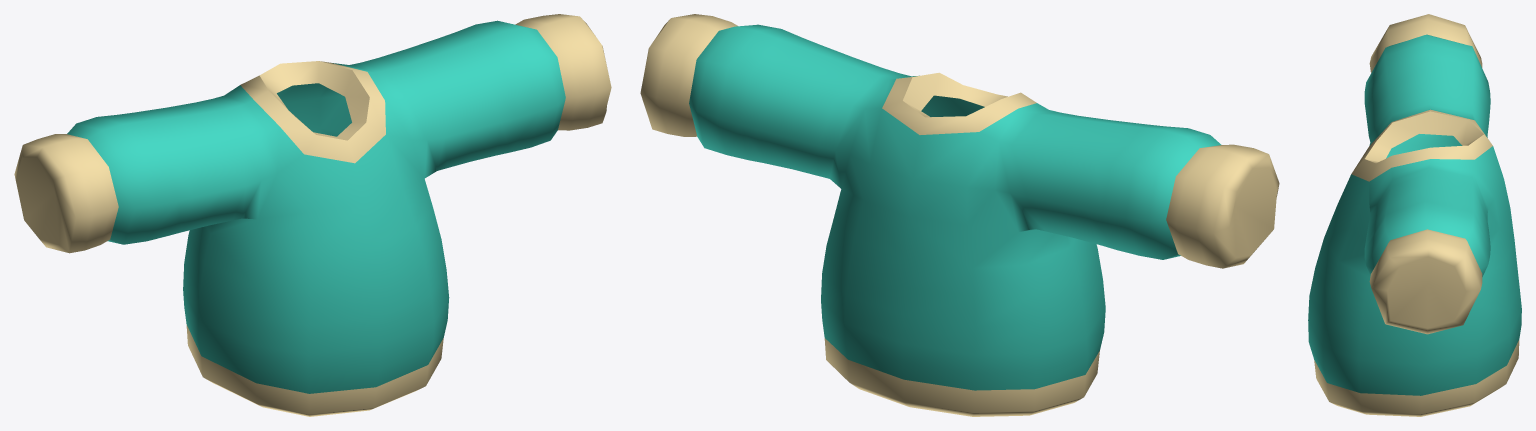
The model's file is Top_19.fbx.
3 views of the same model, side by side, from view 1: azimuth 30°, elevation 25°; view 2: azimuth 150°, elevation 25°; view 3: azimuth 270°, elevation 25° (orthographic). The views are drawn at different scales.
Parts seen in each view (by area): view 1: Top_19; view 2: Top_19; view 3: Top_19.
Part boxes in pixels (left/top/right/bottom): Top_19: left=14, top=14, right=611, bottom=416; Top_19: left=640, top=14, right=1279, bottom=416; Top_19: left=1308, top=14, right=1521, bottom=416.
Size of the model in its own units: 98 by 49.7 by 37.16.
